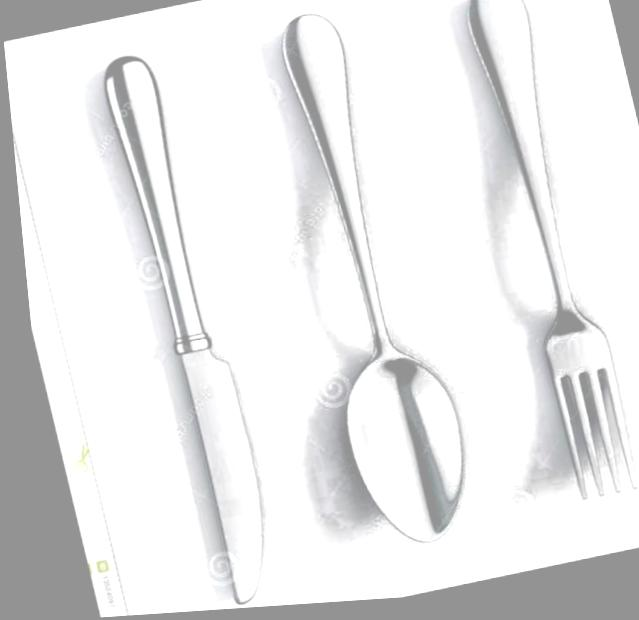Fork: (466, 0, 637, 500)
Knife: (103, 57, 263, 603)
Spoon: (282, 14, 463, 541)
